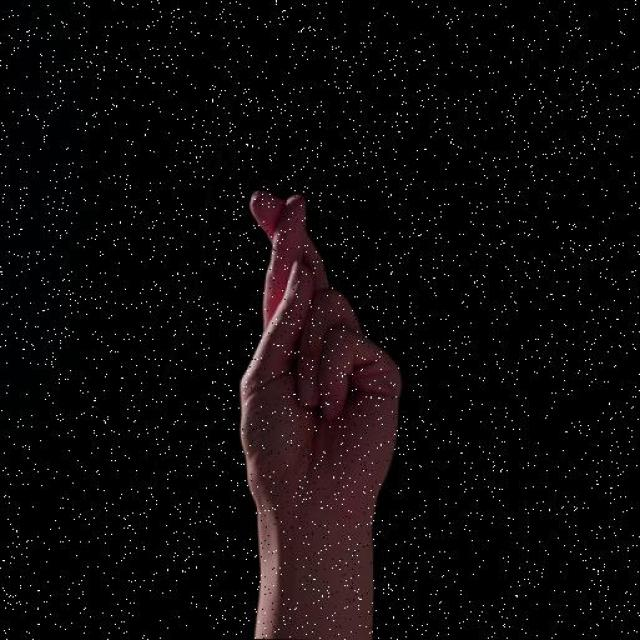R: (229, 183, 409, 541)
